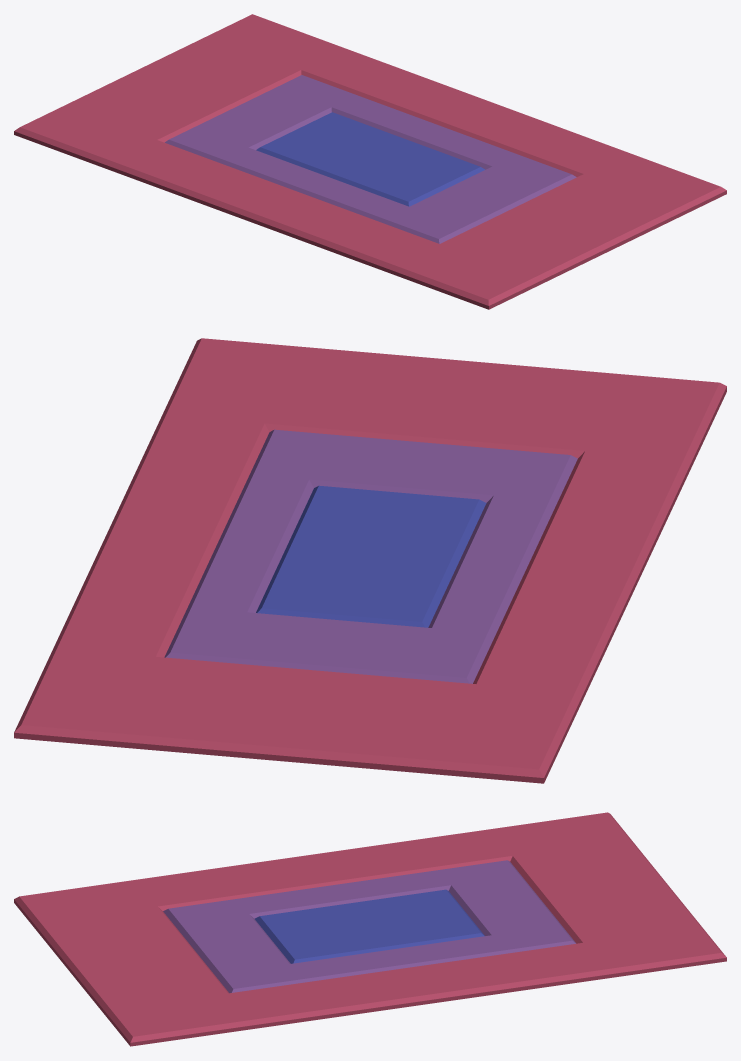
The model's file is RugTextures.fbx.
3 views of the same model, one above another, from view 1: azimuth 30°, elevation 25°; view 2: azimuth 150°, elevation 25°; view 3: azimuth 270°, elevation 25° (orthographic). The views are drawn at different scales.
Parts seen in each view (by area): view 1: Big, Middle, Small; view 2: Big, Middle, Small; view 3: Big, Middle, Small.
Part boxes in pixels (bbox=[...]): Big: bbox=[14, 14, 726, 309]; Middle: bbox=[165, 75, 576, 243]; Small: bbox=[256, 112, 484, 206]; Big: bbox=[14, 338, 726, 783]; Middle: bbox=[164, 429, 577, 683]; Small: bbox=[256, 485, 486, 627]; Big: bbox=[14, 812, 726, 1046]; Middle: bbox=[163, 860, 575, 993]; Small: bbox=[254, 889, 484, 963].
Bounding box in the file's own units: 5.25 × 0.0949 × 6.87.
